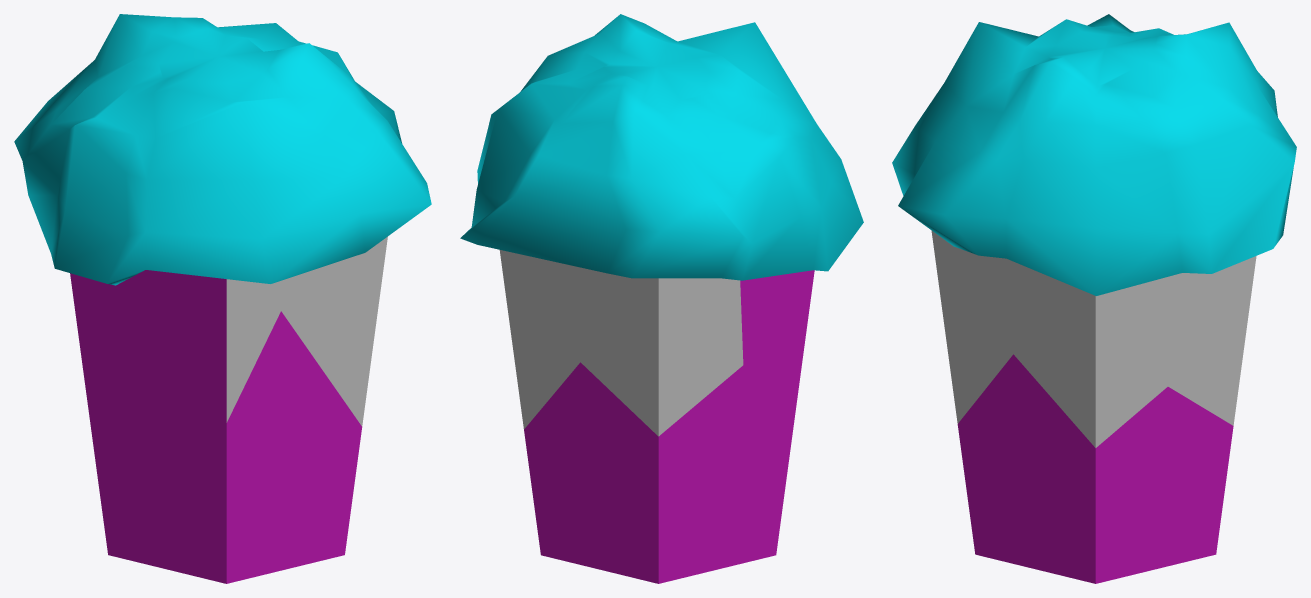
Rendered from Prop_SodaCup_Mod_01.fbx.
3 views of the same model, side by side, from view 1: azimuth 30°, elevation 25°; view 2: azimuth 150°, elevation 25°; view 3: azimuth 270°, elevation 25° (orthographic). The views are drawn at different scales.
Visible parts, largest first — view 1: SodaCup; view 2: SodaCup; view 3: SodaCup.
Boxes of the visible parts, <box> form: SodaCup: <box>14,14,431,583</box>; SodaCup: <box>460,14,863,583</box>; SodaCup: <box>892,14,1296,583</box>.
Size of the model in its own units: 0.2472 by 0.3242 by 0.2411.
